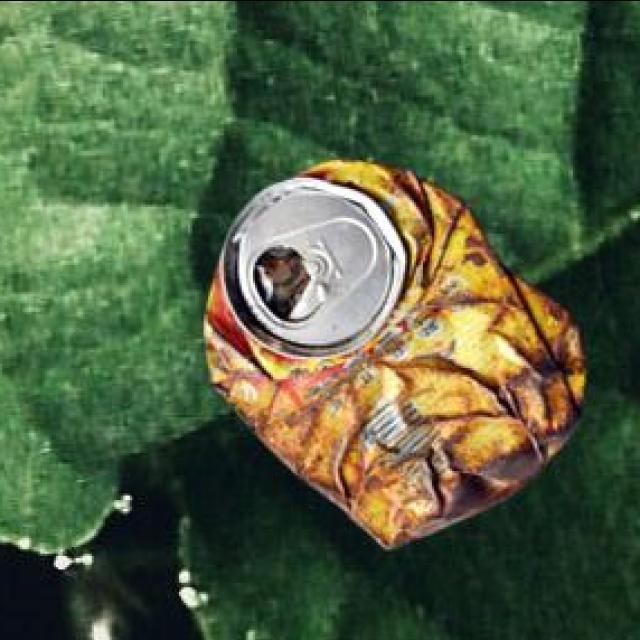logam: (207, 162, 590, 552)
